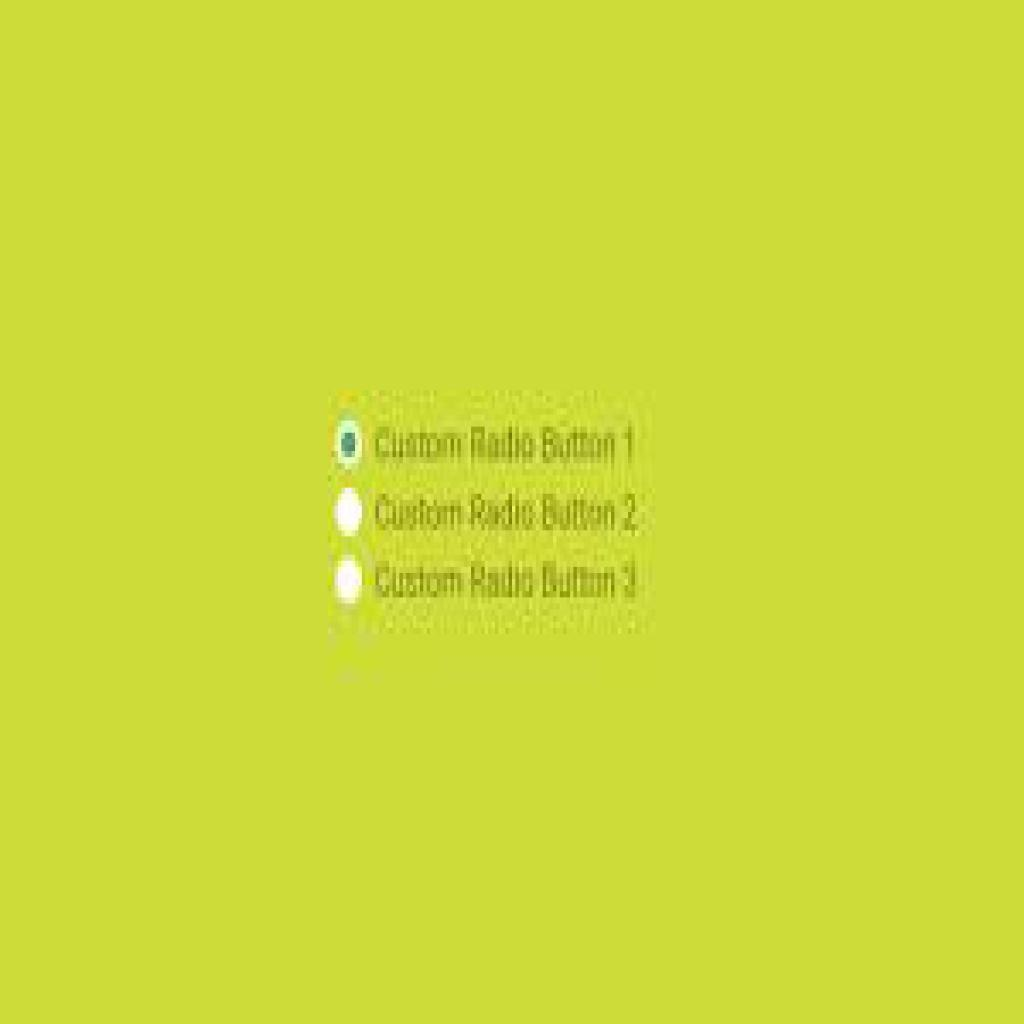radio: (335, 489, 367, 543), (333, 556, 368, 605), (333, 418, 364, 472)
